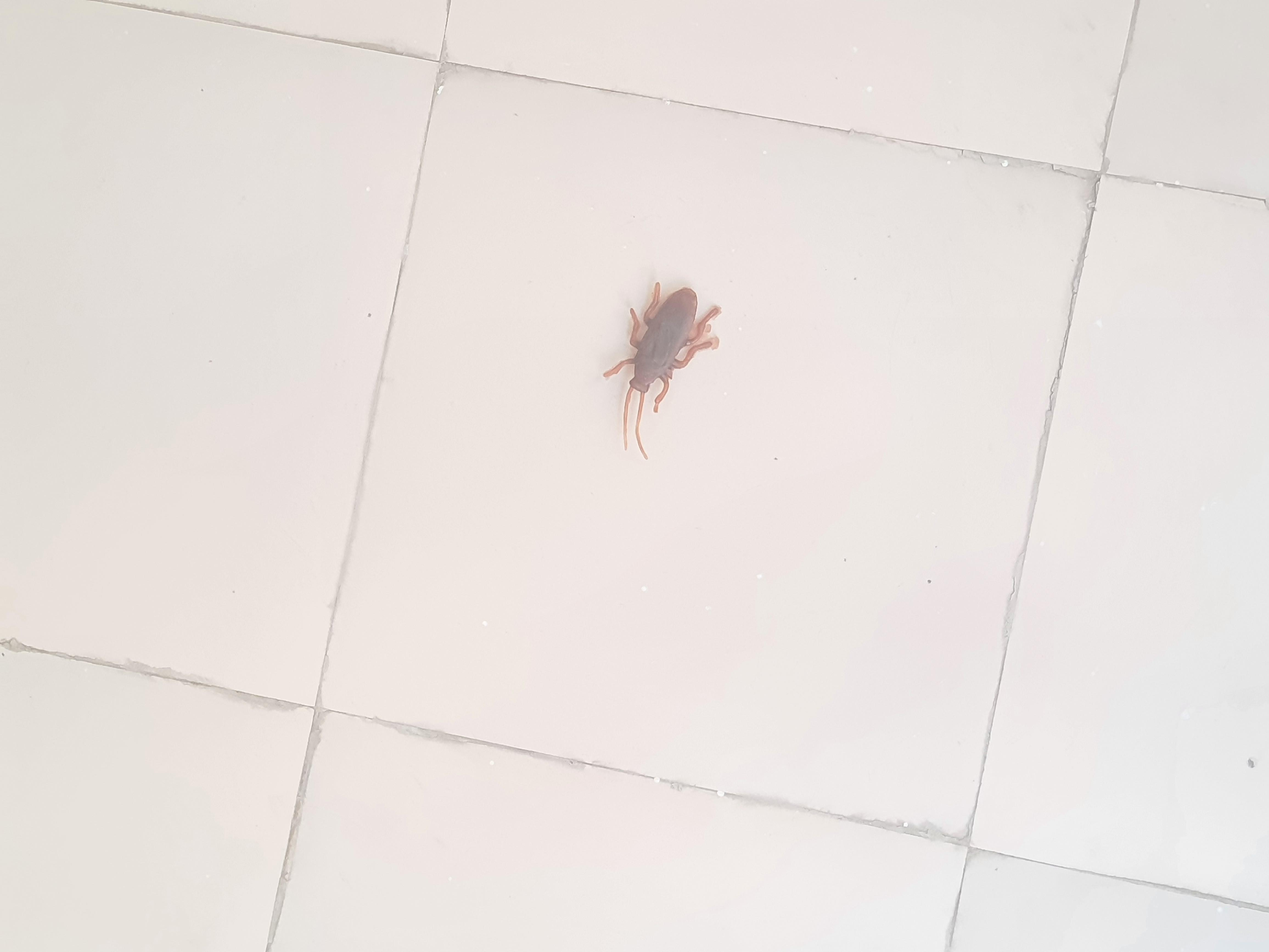cockroach: (638, 450, 908, 547)
